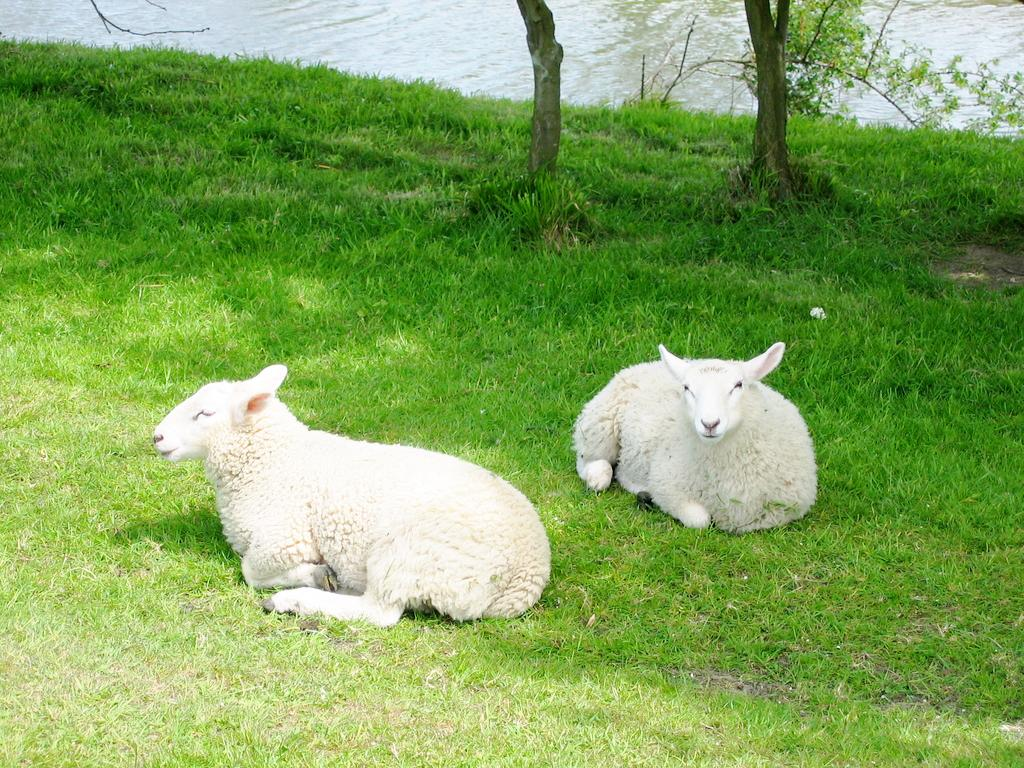Sheep: (156, 365, 552, 630), (568, 342, 818, 534)
